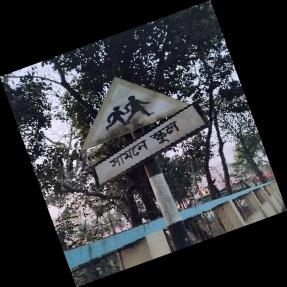School-in-front: (81, 77, 207, 189)
